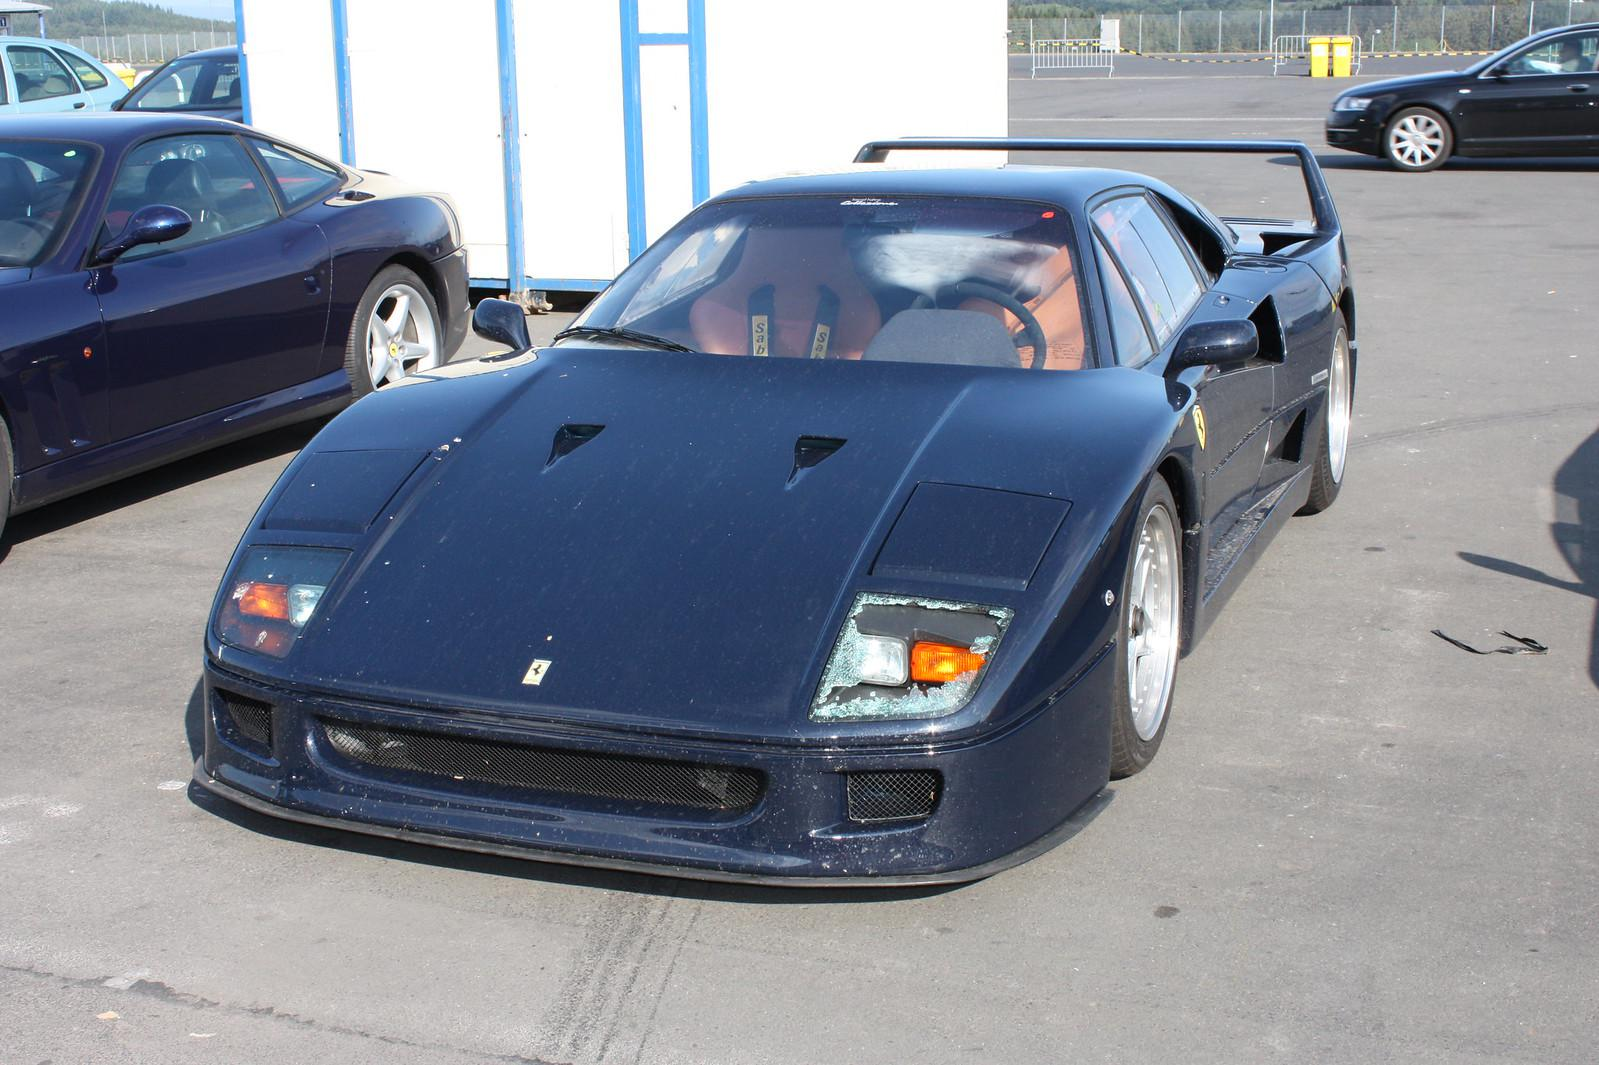Headlight-Damage: (765, 568, 1079, 760)
